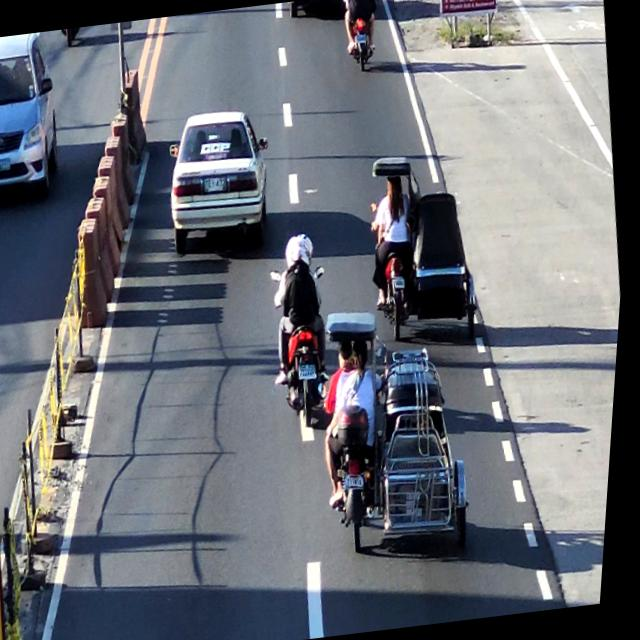Car: (161, 105, 283, 254)
License-Plate: (204, 172, 230, 198), (347, 471, 372, 490), (303, 361, 323, 378), (395, 274, 410, 290)
Motorcycle: (264, 232, 344, 434), (341, 0, 381, 73)
Tricycle: (310, 294, 487, 564), (360, 146, 498, 348)
